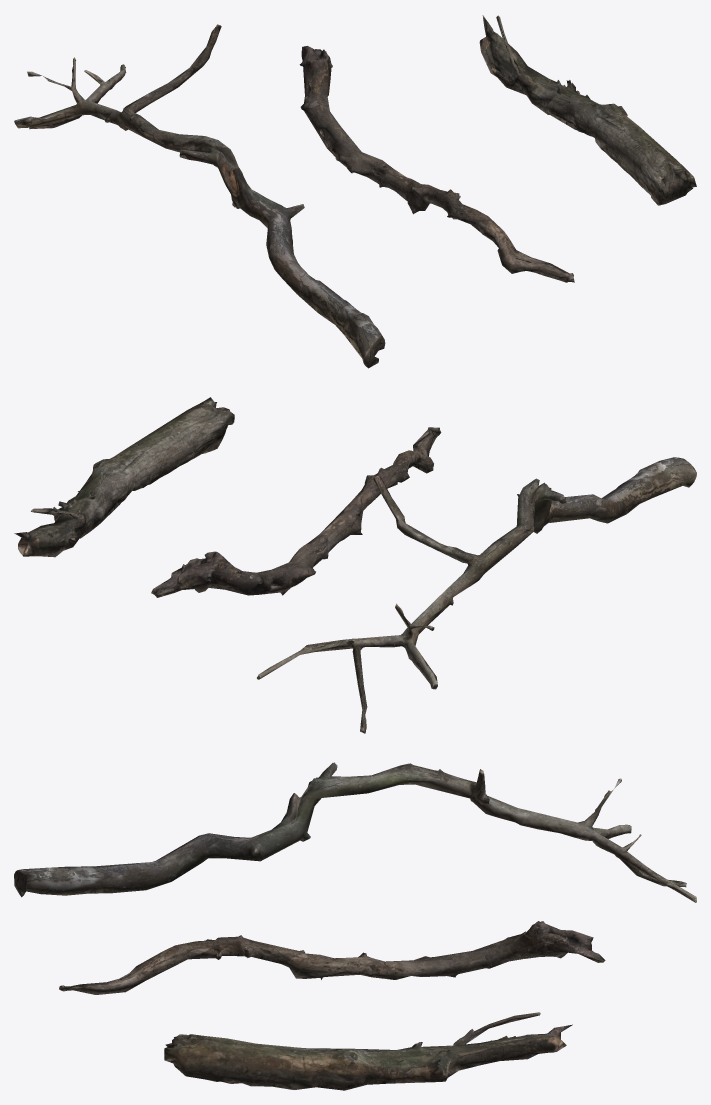
File: branches.glb
3 renders of one model, top to bottom at view 1: azimuth 30°, elevation 25°; view 2: azimuth 150°, elevation 25°; view 3: azimuth 270°, elevation 25°, orthographic. The views are drawn at different scales.
Parts seen in each view (by area): view 1: dry_branches_medium_01_c; view 2: dry_branches_medium_01_c; view 3: dry_branches_medium_01_c.
Boxes of the visible parts, bbox=[...] form: dry_branches_medium_01_c: bbox=[14, 15, 696, 368]; dry_branches_medium_01_c: bbox=[14, 397, 696, 733]; dry_branches_medium_01_c: bbox=[14, 762, 696, 1090].
Size of the model in its own units: 1.06 by 0.34 by 1.3.
1 material, 1 textured.
